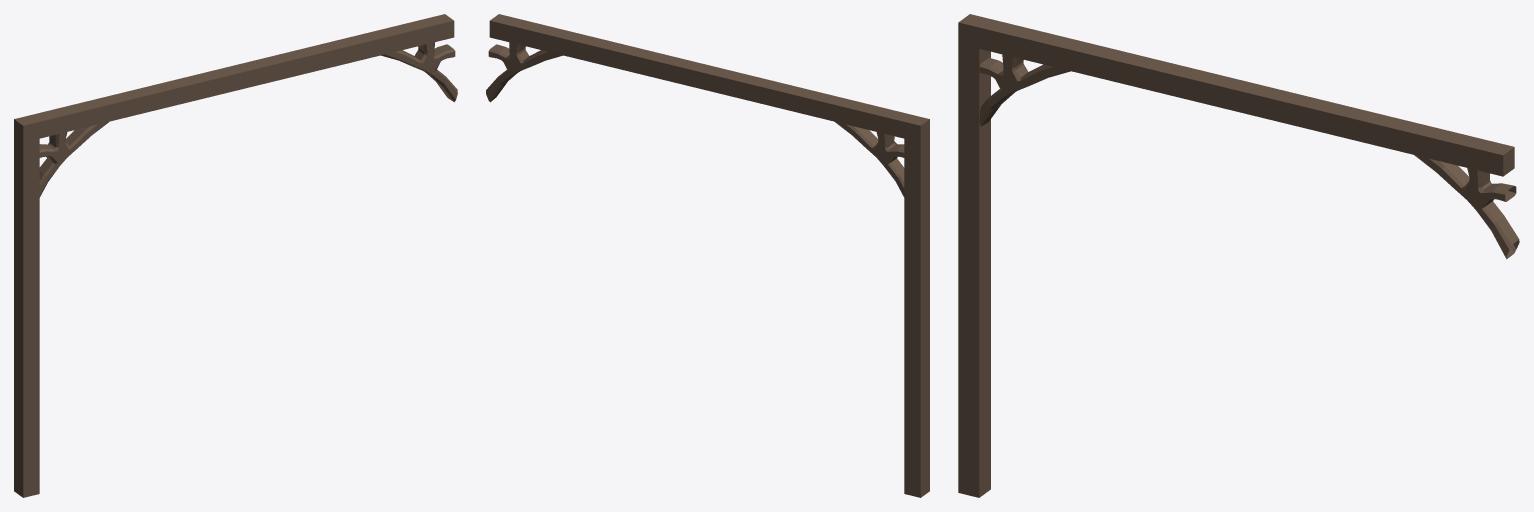
File: Beam_1.fbx
3 views of the same model, side by side, from view 1: azimuth 30°, elevation 25°; view 2: azimuth 150°, elevation 25°; view 3: azimuth 330°, elevation 25° (orthographic). The views are drawn at different scales.
Visible parts, largest first — view 1: Beam_1; view 2: Beam_1; view 3: Beam_1.
Boxes of the visible parts, x1,y1,x2,y2 form: Beam_1: (14,14,457,497); Beam_1: (486,14,929,497); Beam_1: (958,14,1519,497).
Size of the model in its own units: 477 by 17.36 by 390.
